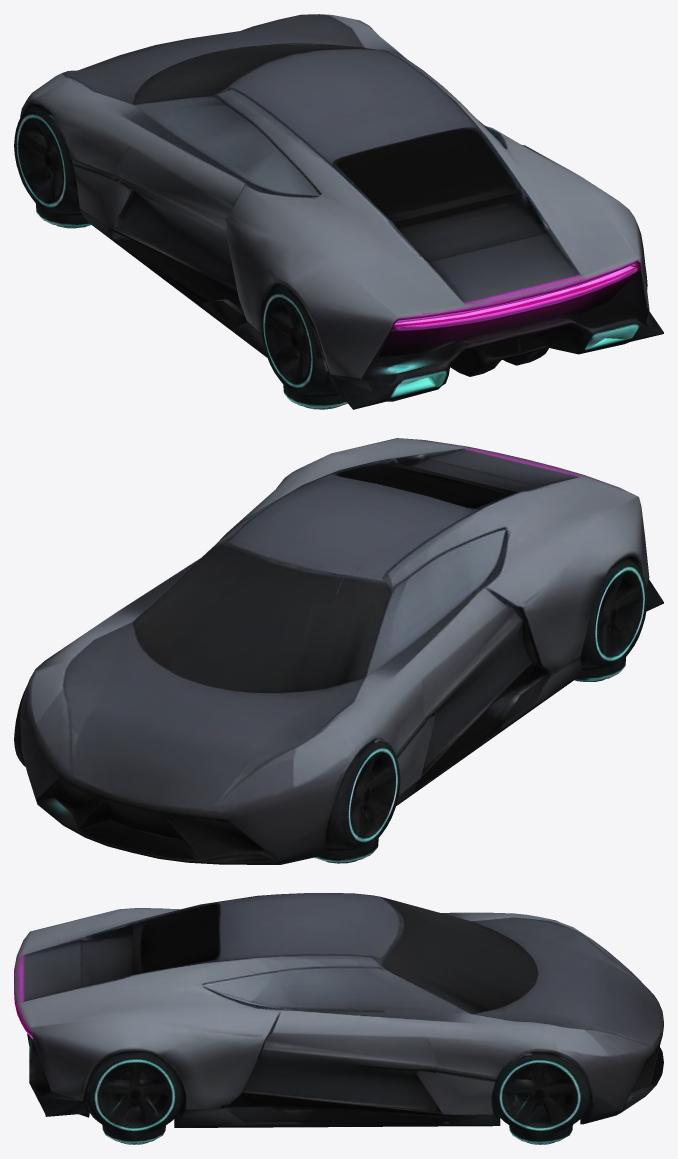
File: landing-hovercar.glb
3 renders of one model, top to bottom at view 1: azimuth 30°, elevation 25°; view 2: azimuth 150°, elevation 25°; view 3: azimuth 270°, elevation 25°, orthographic. The views are drawn at different scales.
Visible parts, largest first — view 1: material; view 2: material; view 3: material.
Boxes of the visible parts, left/top/right/bottom form: material: left=14, top=14, right=663, bottom=409; material: left=14, top=438, right=663, bottom=864; material: left=14, top=893, right=663, bottom=1144.
Size of the model in its own units: 0.9198 by 0.5214 by 1.9.
1 material, 1 textured.
